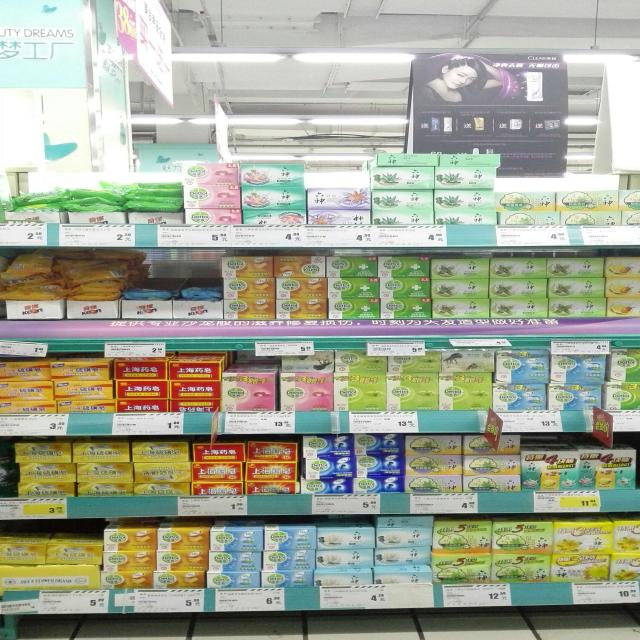unorganised: (4, 249, 123, 303), (440, 349, 495, 372), (283, 350, 332, 371), (177, 282, 222, 303), (124, 285, 169, 303)
